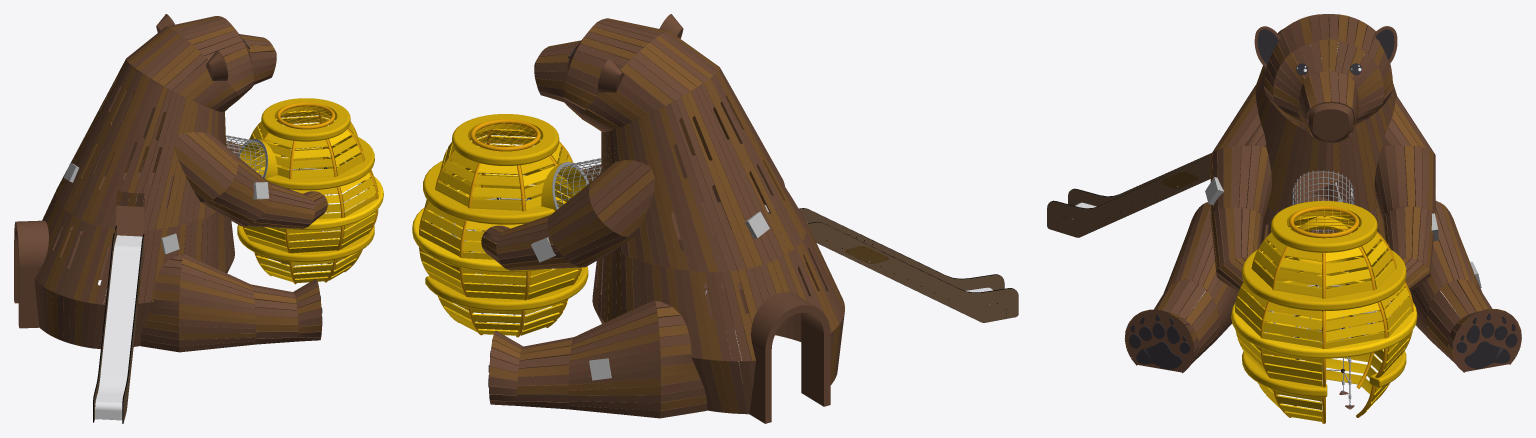
The model's file is rgss-711-p-bear.glb.
3 views of the same model, side by side, from view 1: azimuth 30°, elevation 25°; view 2: azimuth 150°, elevation 25°; view 3: azimuth 270°, elevation 25° (orthographic). The views are drawn at different scales.
Parts seen in each view (by area): view 1: Object001; view 2: Object001; view 3: Object001.
Boxes of the visible parts, left/top/right/bottom form: Object001: left=14, top=14, right=383, bottom=423; Object001: left=412, top=14, right=1018, bottom=423; Object001: left=1047, top=14, right=1521, bottom=423.
Bounding box in the file's own units: 6.75 × 4.44 × 6.
Materials: 1 (1 with a texture image).
